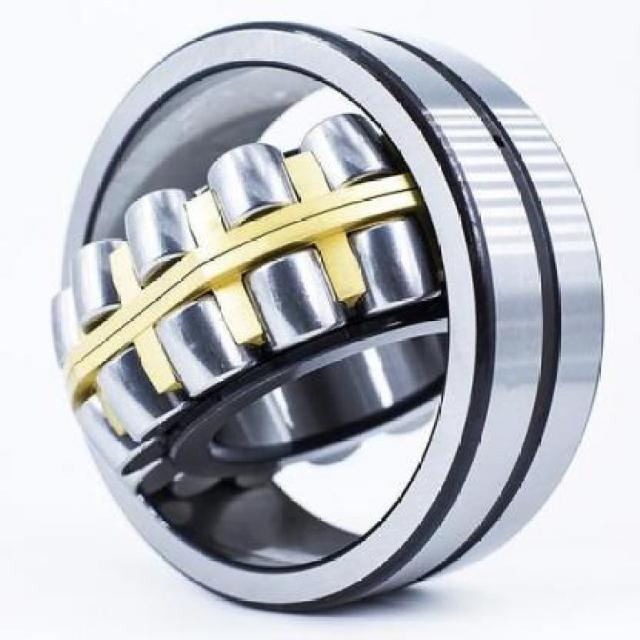Bearing: (47, 14, 608, 615)
